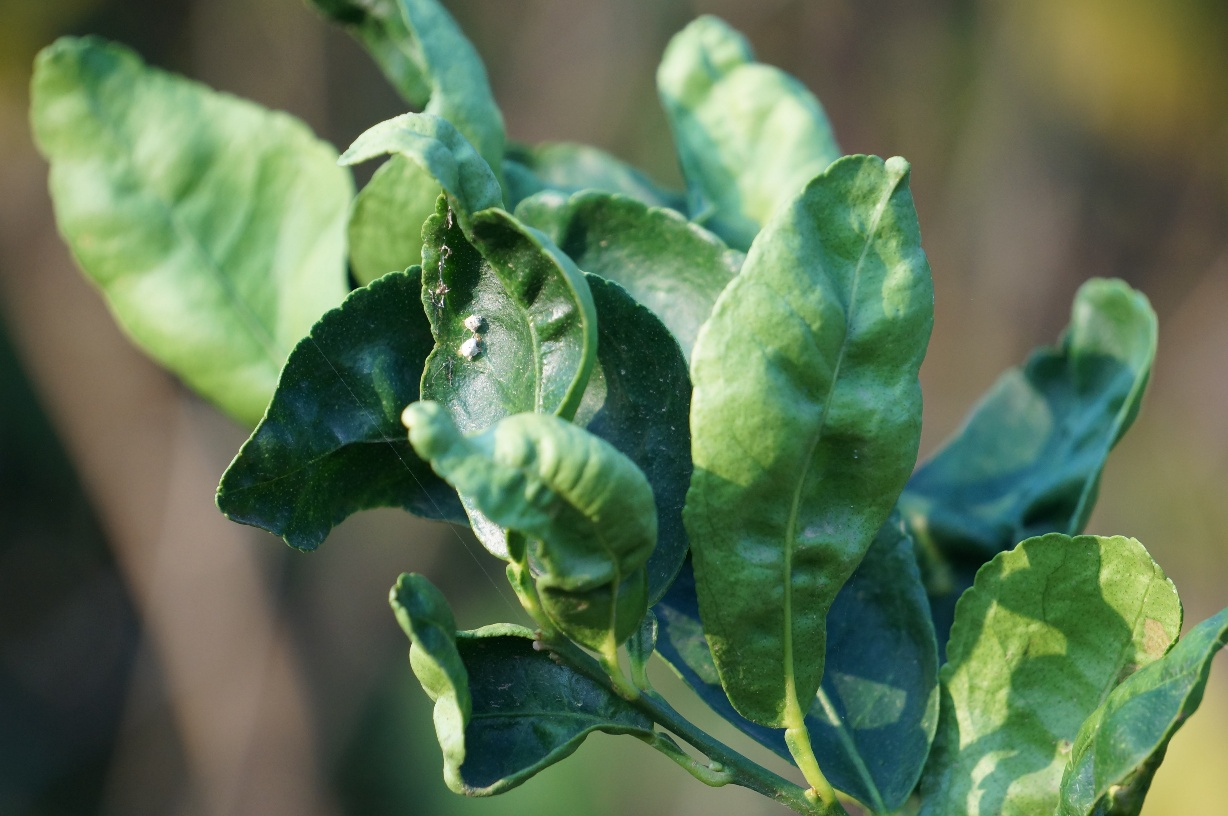damage: (381, 565, 661, 804)
